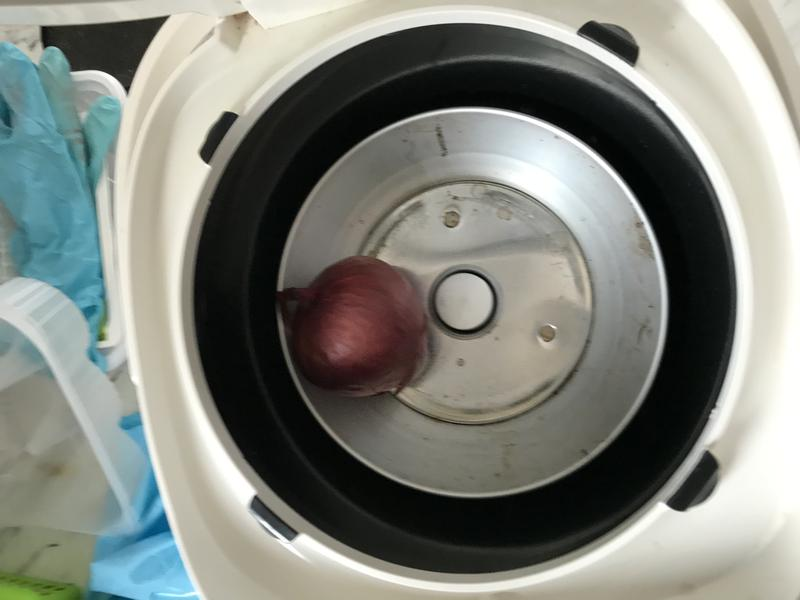purple_onion: (271, 249, 441, 406)
